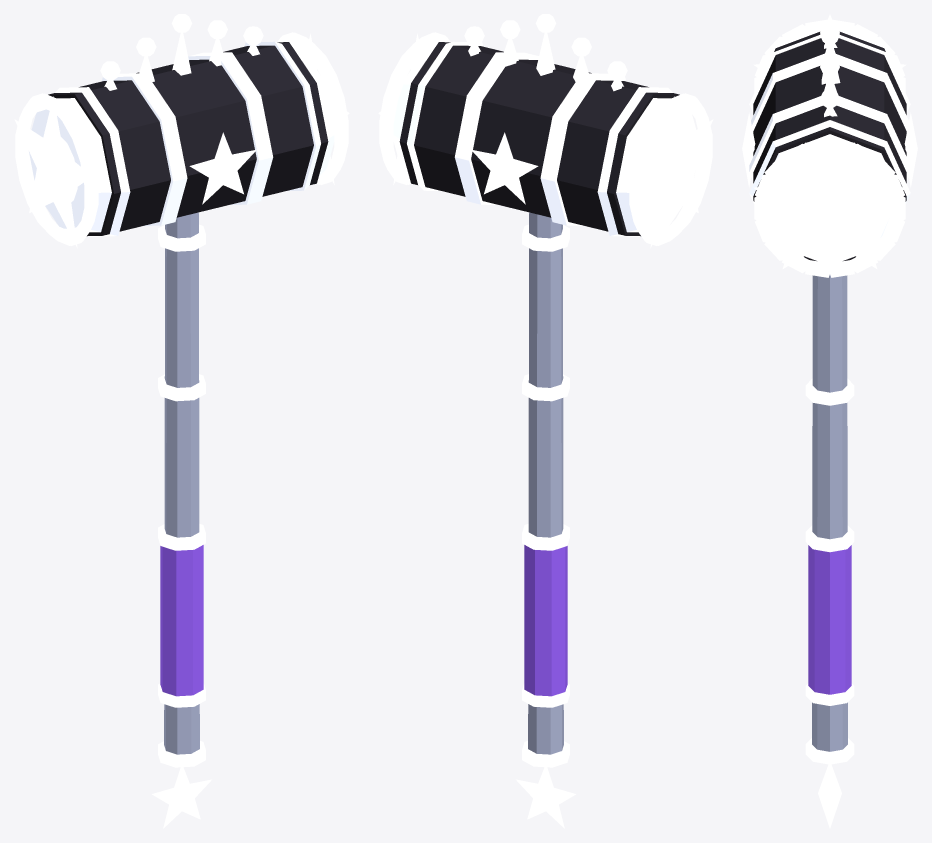
Rendered from astrael_star_hammer.glb.
3 views of the same model, side by side, from view 1: azimuth 30°, elevation 25°; view 2: azimuth 150°, elevation 25°; view 3: azimuth 270°, elevation 25° (orthographic). The views are drawn at different scales.
Visible parts, largest first — view 1: astrael_star_hammer; view 2: astrael_star_hammer; view 3: astrael_star_hammer.
Boxes of the visible parts, left/top/right/bottom form: astrael_star_hammer: left=14, top=14, right=349, bottom=828; astrael_star_hammer: left=378, top=14, right=713, bottom=828; astrael_star_hammer: left=742, top=14, right=917, bottom=828.
Size of the model in its own units: 0.75 by 2.17 by 0.435.
